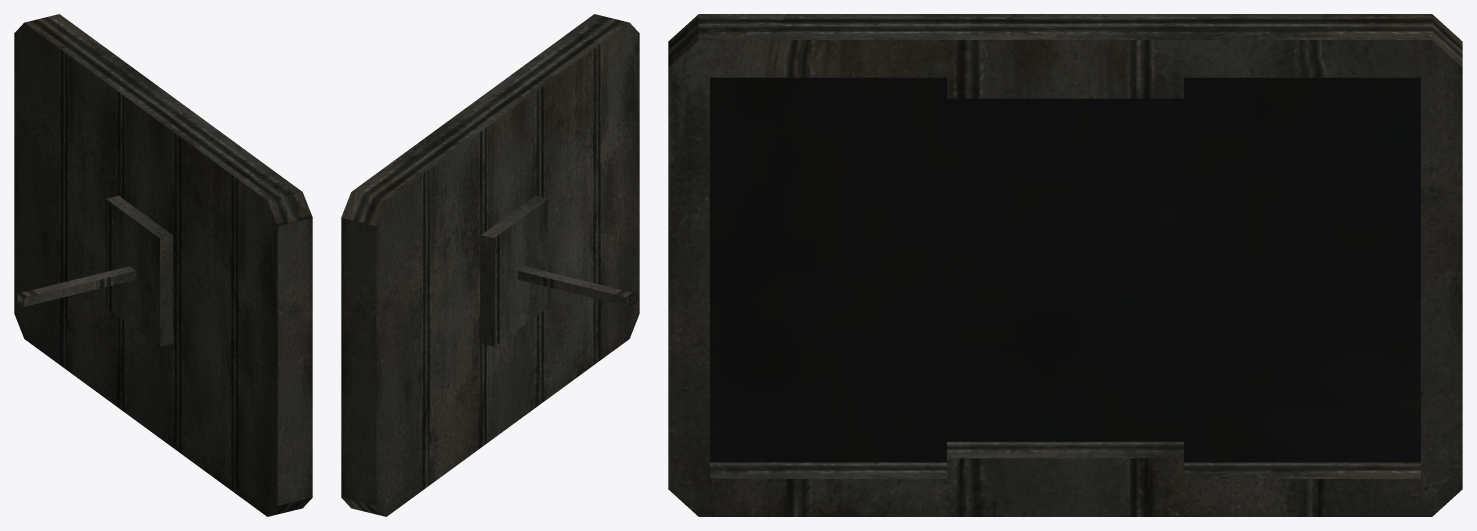
The model's file is TimerScreen.fbx.
3 views of the same model, side by side, from view 1: azimuth 30°, elevation 25°; view 2: azimuth 150°, elevation 25°; view 3: azimuth 270°, elevation 25° (orthographic). The views are drawn at different scales.
Visible parts, largest first — view 1: TimerScreen; view 2: TimerScreen; view 3: TimerScreen.
Boxes of the visible parts, x1,y1,x2,y2 form: TimerScreen: (14, 14, 312, 516); TimerScreen: (341, 14, 639, 516); TimerScreen: (668, 14, 1462, 516).
Bounding box in the file's own units: 2.06 × 3.87 × 5.83.
